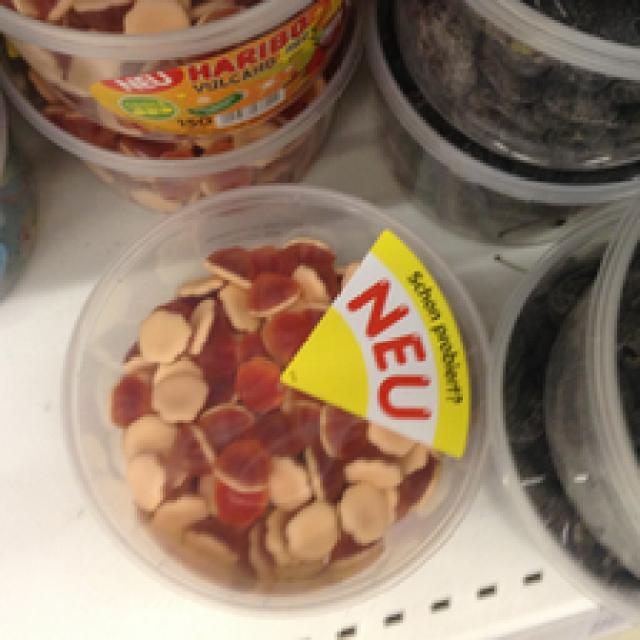groceries: (57, 183, 489, 606)
